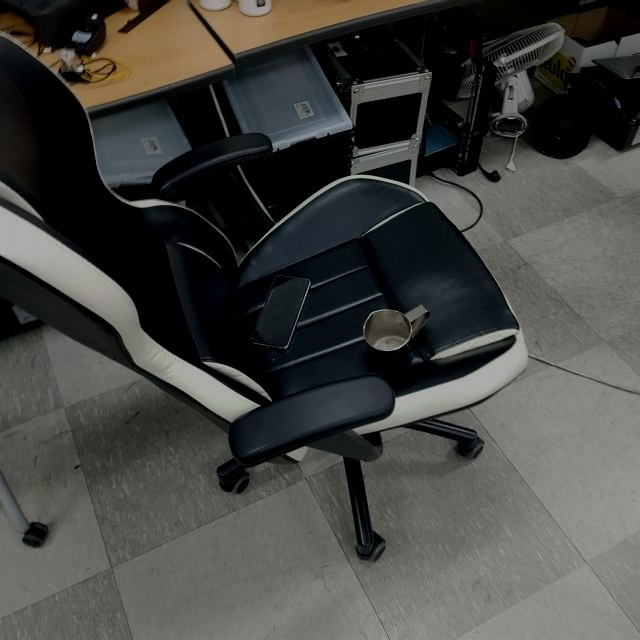cup: (363, 302, 430, 374)
phone: (250, 274, 312, 351)
